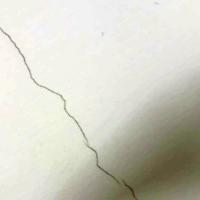crack: (0, 26, 156, 199)
